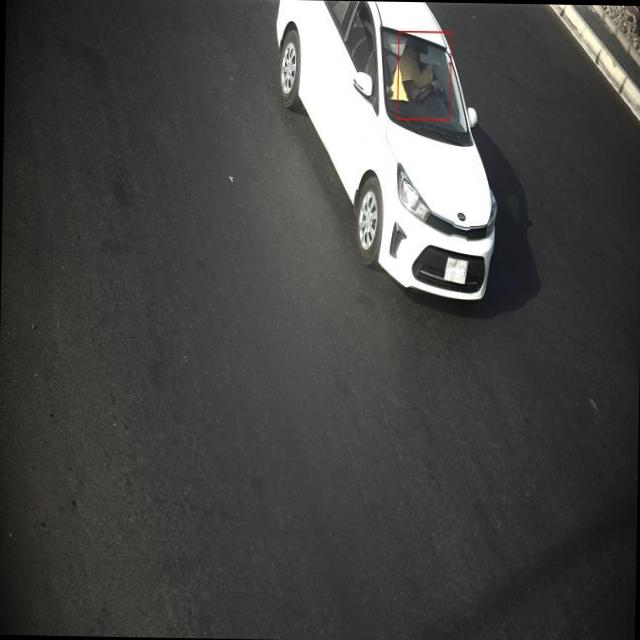person_without_seatbelt: (400, 36, 447, 110)
